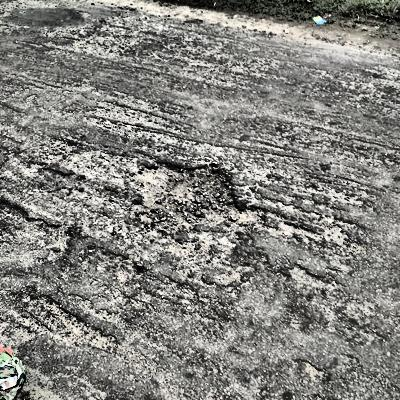pothole: (129, 156, 262, 233)
